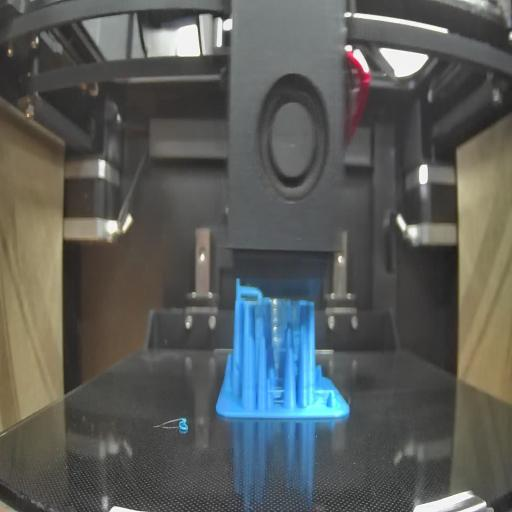stringing: (259, 295, 303, 328), (310, 380, 334, 404), (265, 380, 287, 404)
